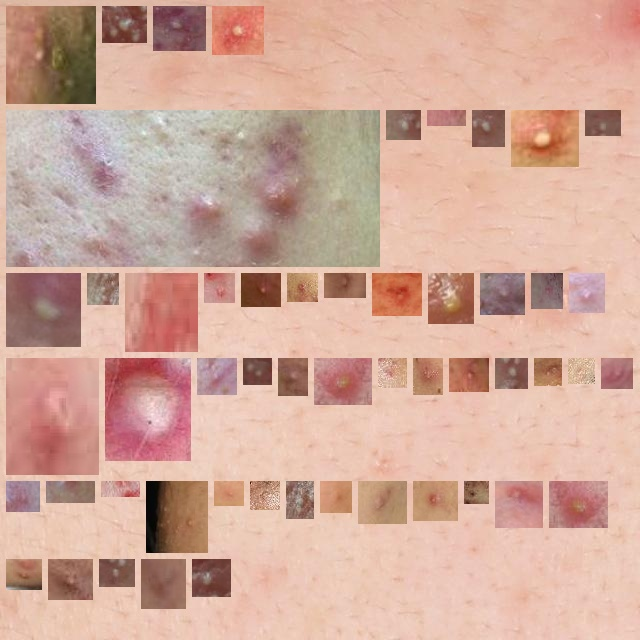pustule: (14, 118, 372, 259), (14, 366, 91, 467), (113, 366, 183, 453), (14, 14, 88, 96), (133, 281, 192, 344), (14, 281, 73, 339), (154, 489, 200, 545), (519, 118, 571, 159), (557, 489, 600, 520), (322, 366, 364, 397), (503, 481, 535, 520), (220, 14, 256, 47), (161, 14, 198, 43), (436, 281, 466, 316), (149, 567, 178, 601), (380, 281, 414, 308), (366, 489, 399, 516), (488, 281, 517, 307), (56, 567, 85, 592), (421, 489, 450, 513), (110, 14, 139, 35), (200, 567, 223, 589), (205, 366, 229, 387), (577, 281, 597, 305), (332, 273, 358, 290), (249, 281, 273, 299), (457, 366, 481, 384), (480, 118, 497, 139), (539, 281, 555, 301), (286, 366, 300, 388), (14, 567, 34, 582), (421, 366, 435, 387), (14, 489, 32, 504), (394, 118, 413, 132), (294, 489, 306, 511), (95, 281, 111, 297), (328, 489, 344, 505), (503, 366, 520, 381), (609, 366, 625, 381), (107, 567, 127, 579), (212, 281, 227, 295), (593, 118, 613, 128), (295, 281, 310, 294), (109, 481, 132, 489), (386, 366, 399, 380), (258, 489, 272, 502), (542, 366, 554, 378), (251, 366, 264, 377), (222, 489, 236, 498), (576, 366, 587, 376), (472, 489, 481, 496)
